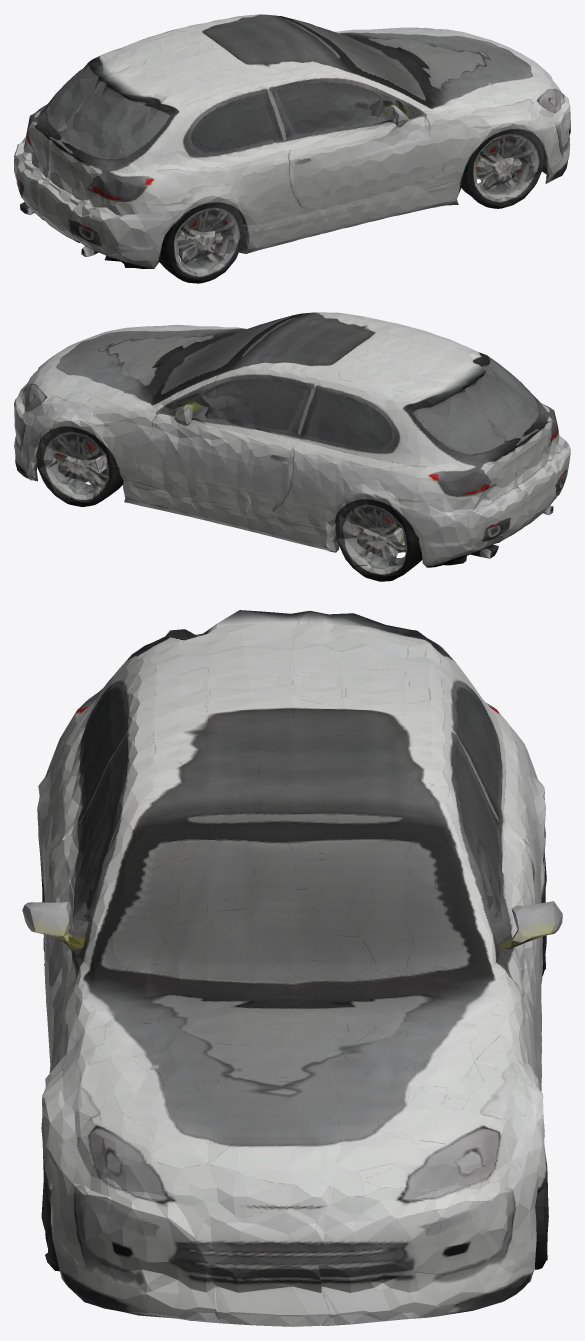
3 views of the same model, one above another, from view 1: azimuth 30°, elevation 25°; view 2: azimuth 150°, elevation 25°; view 3: azimuth 270°, elevation 25° (orthographic). The views are drawn at different scales.
Size of the model in its own units: 0.8943 by 0.2927 by 0.4194.
1 material, 1 textured.
